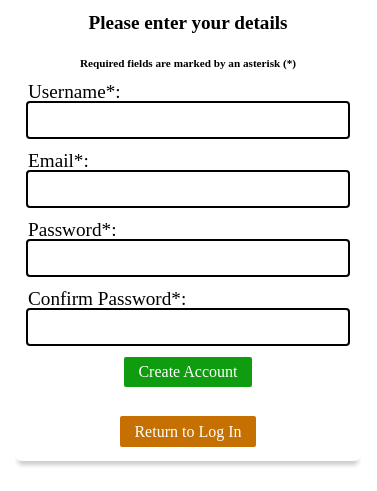
UI/DOM Testing... › The 'Email' error message... › Should be present if the value of the 'Email' input is changed and          the new value is invalid
Type "a" into the field named "email-input".
click(188, 189); type("a")  # box [28, 172, 348, 206]
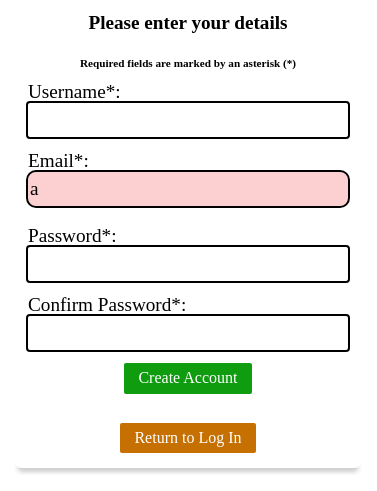
Now the heading named "email-error" is shown, box [28, 206, 348, 213]
